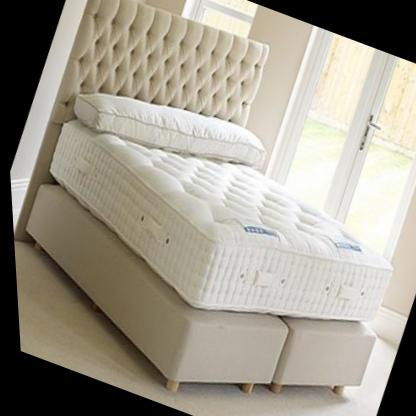Bed: (0, 0, 416, 416)
Window: (253, 26, 416, 237)
